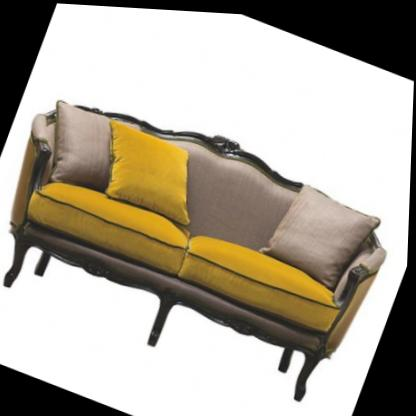Sofa: (0, 64, 411, 415)
